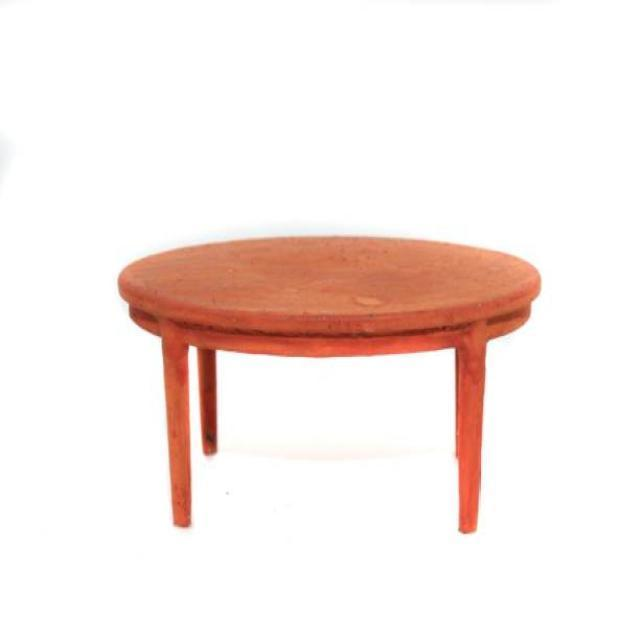table: (116, 233, 542, 534)
